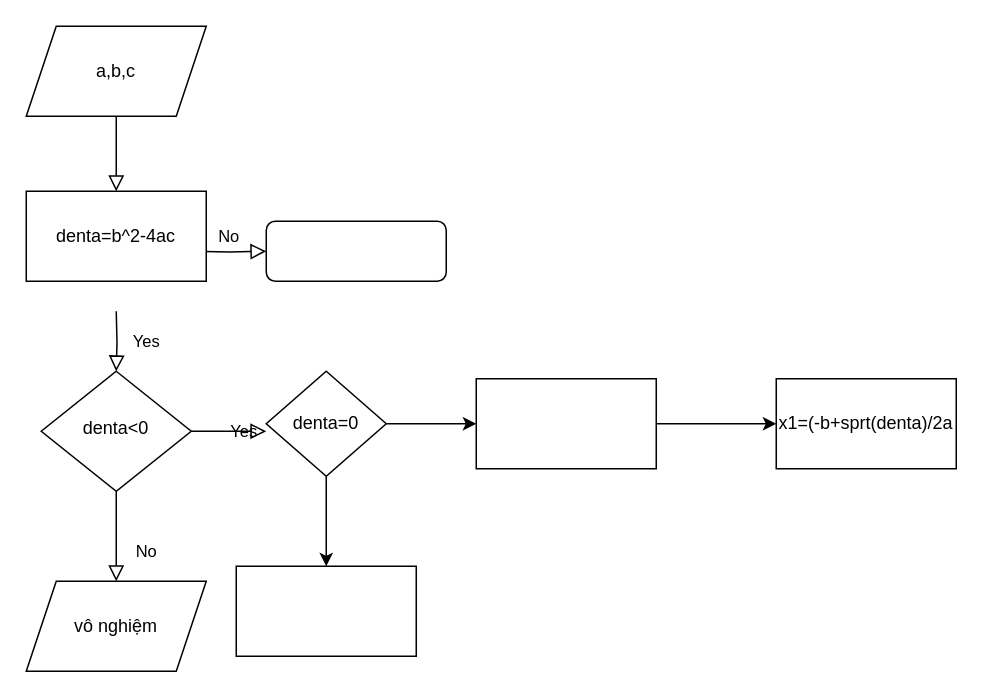
This 983x698 diagram has some shape labels left out. The shapes that lost their labels are listed below. From the top down, each one's box as (x1, y1, x2, y2) in pixels, then its label:
(265, 220, 446, 281): Plug in lamp
(475, 377, 656, 469): x1=(-b-sprt(denta)/2a
(235, 565, 416, 656): x=-b/2a
